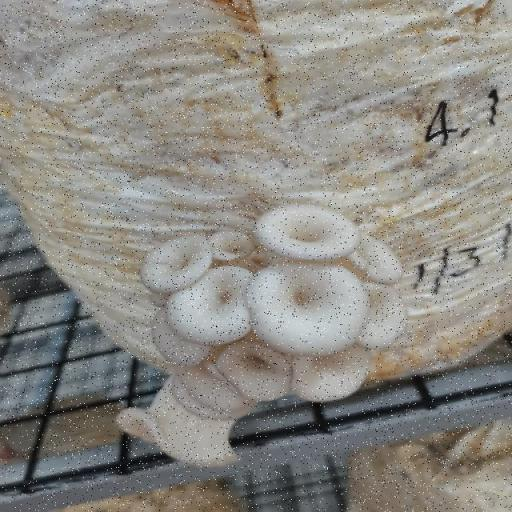White Oyster Mushroom: (116, 197, 406, 465)
